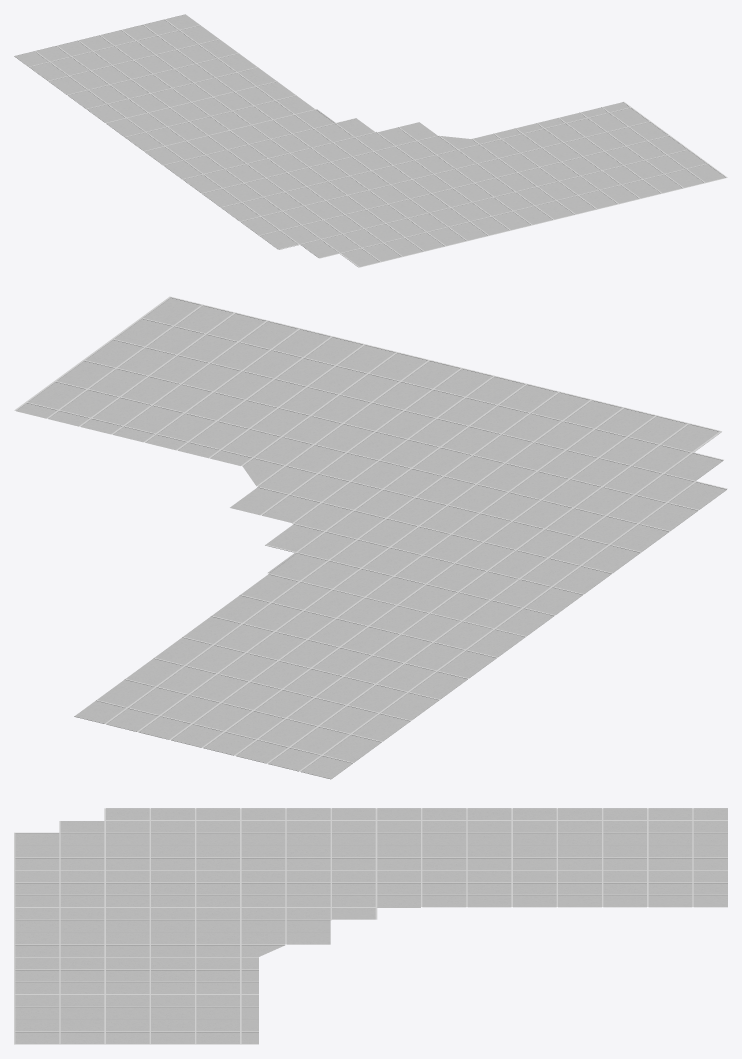
Rendered from office.ceiling.bend.fbx.
3 renders of one model, top to bottom at view 1: azimuth 30°, elevation 25°; view 2: azimuth 150°, elevation 25°; view 3: azimuth 270°, elevation 25°, orthographic. The views are drawn at different scales.
Parts seen in each view (by area): view 1: Ceiling_hall; view 2: Ceiling_hall; view 3: Ceiling_hall.
Boxes of the visible parts, x1=… form: Ceiling_hall: x1=14, y1=14, x2=727, y2=267; Ceiling_hall: x1=14, y1=296, x2=727, y2=779; Ceiling_hall: x1=14, y1=808, x2=727, y2=1044.
Size of the model in its own units: 1638 by 0.7174 by 2093.
2 materials, 1 textured.
